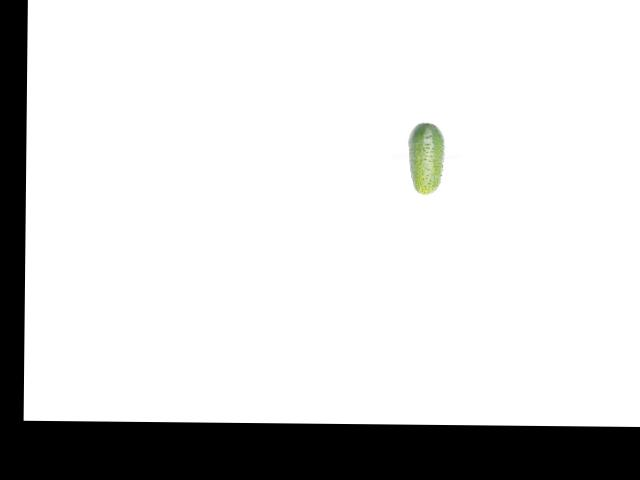cucumber: (408, 122, 445, 195)
